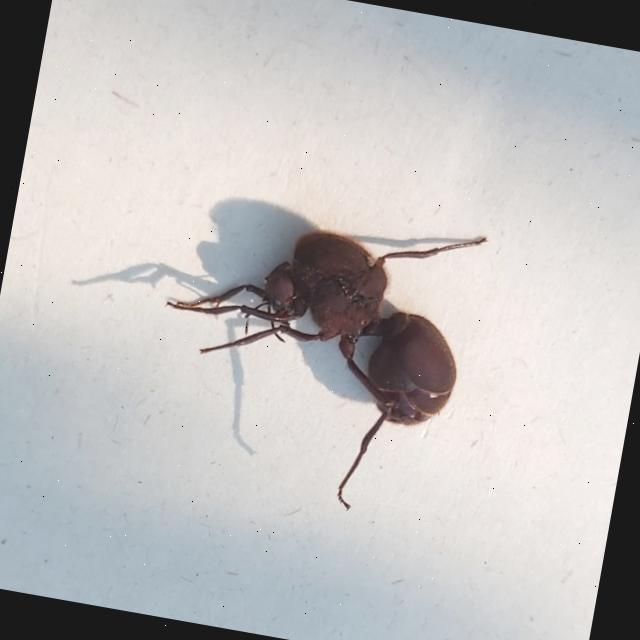Dead-Female-Dealate: (135, 183, 489, 526)
